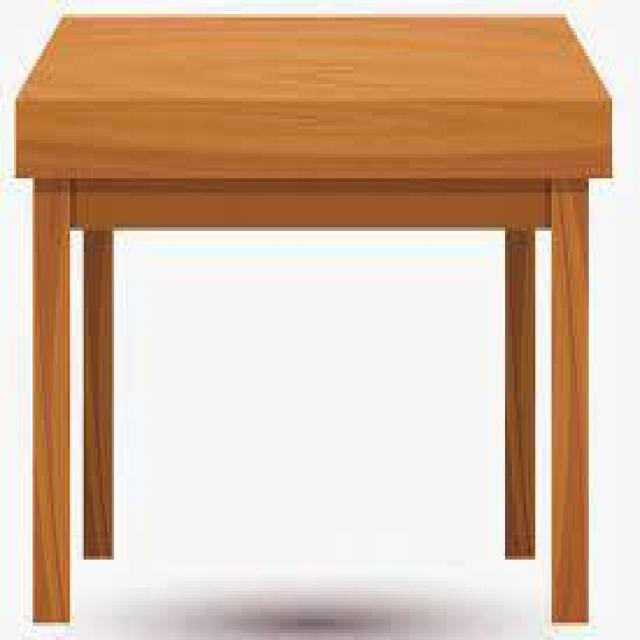table: (9, 7, 619, 636)
